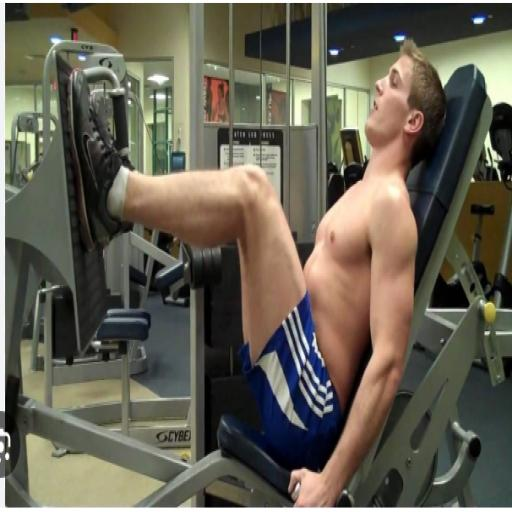Leg Press: (29, 55, 488, 467)
